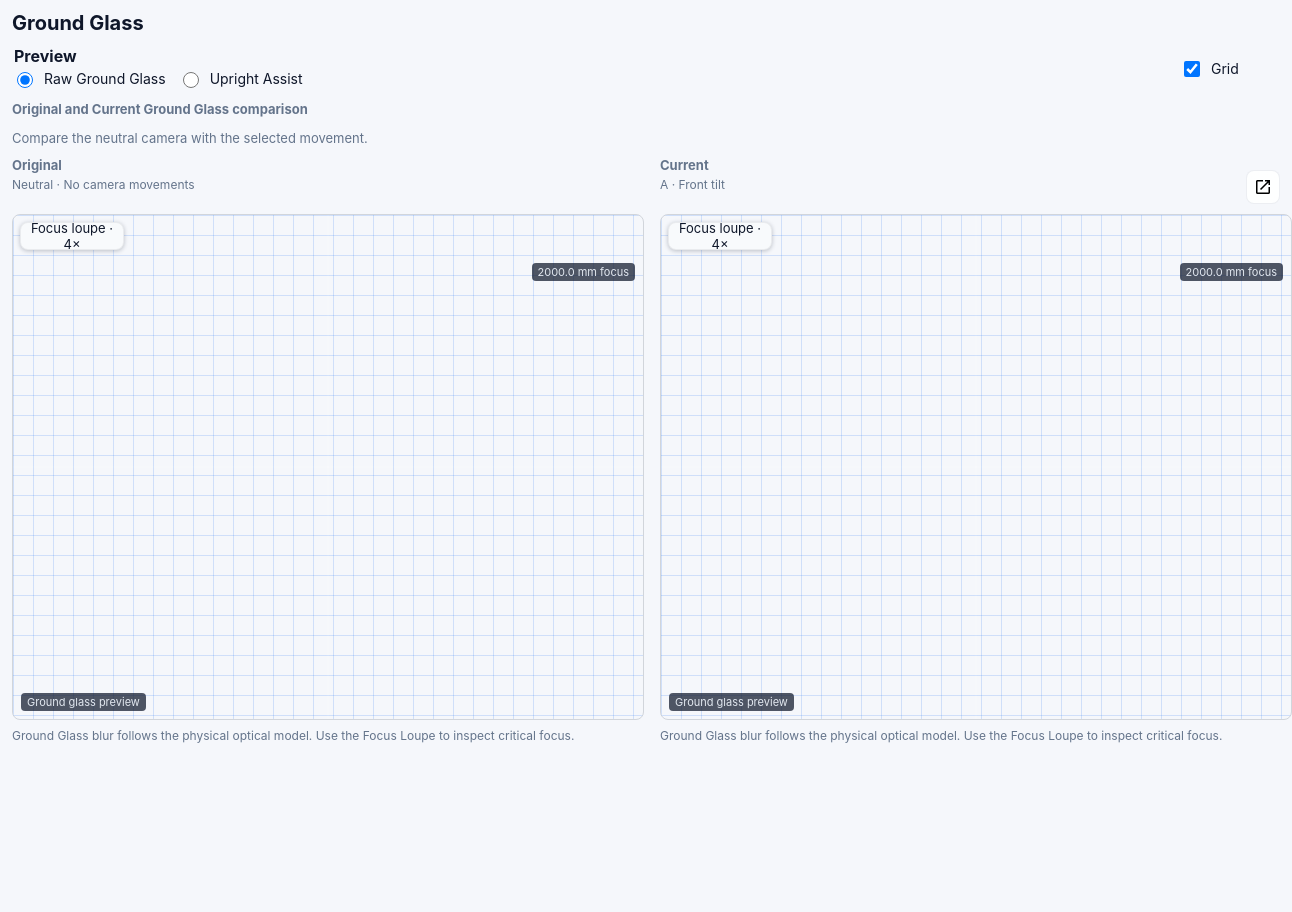
public camera movement controls in the workspace › renders the retained Original/Current comparison composition with independent RTT channels and zoom
Check: the number of headings "Original" is 1, box [12,157,62,173]
Check: the number of headings "Current" is 1, box [660,157,709,173]
Step 1. Click the button with aria-label "Focus loupe · 4× Original Ground Glass view" → coordinates (72, 236), box [20,222,124,250]
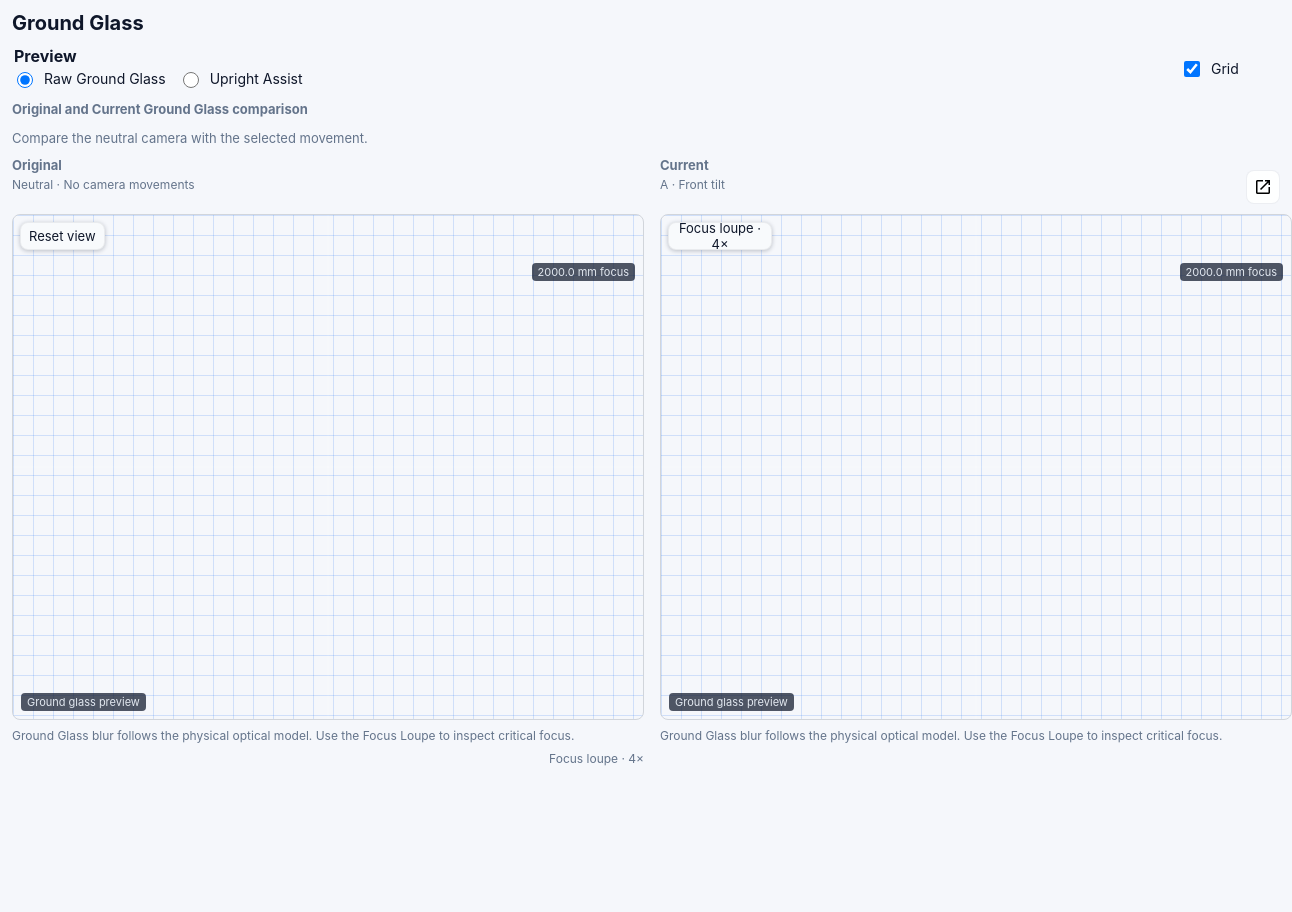
Check: the button with aria-label "Focus loupe · 4× Current Ground Glass view" is shown, box [668,222,772,250]
Check: the button with aria-label "Reset Original Ground Glass view" is shown, box [20,222,104,250]
